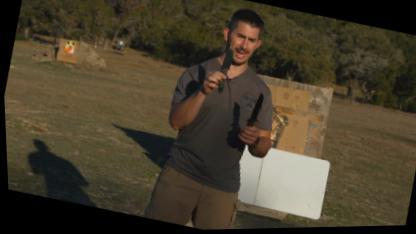knife: (202, 38, 240, 98), (233, 86, 266, 146)
